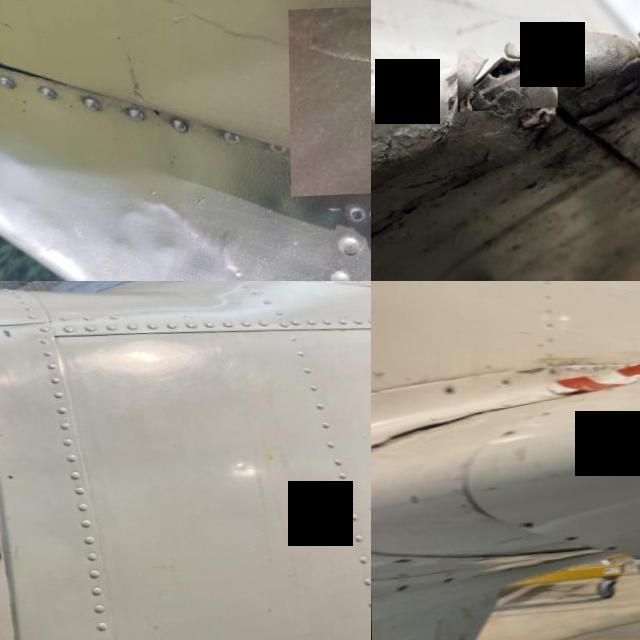Crack: (287, 5, 371, 199), (456, 21, 557, 114), (371, 402, 505, 459), (559, 5, 640, 90)
Missing_Fastener: (565, 536, 579, 546), (606, 548, 620, 556), (520, 522, 532, 531), (396, 585, 408, 593), (396, 560, 410, 566), (442, 577, 452, 585)
